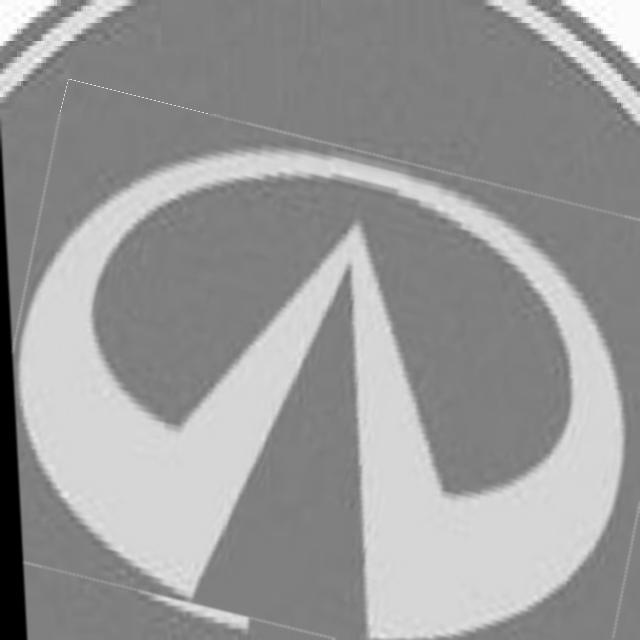Infiniti: (0, 114, 640, 640)
